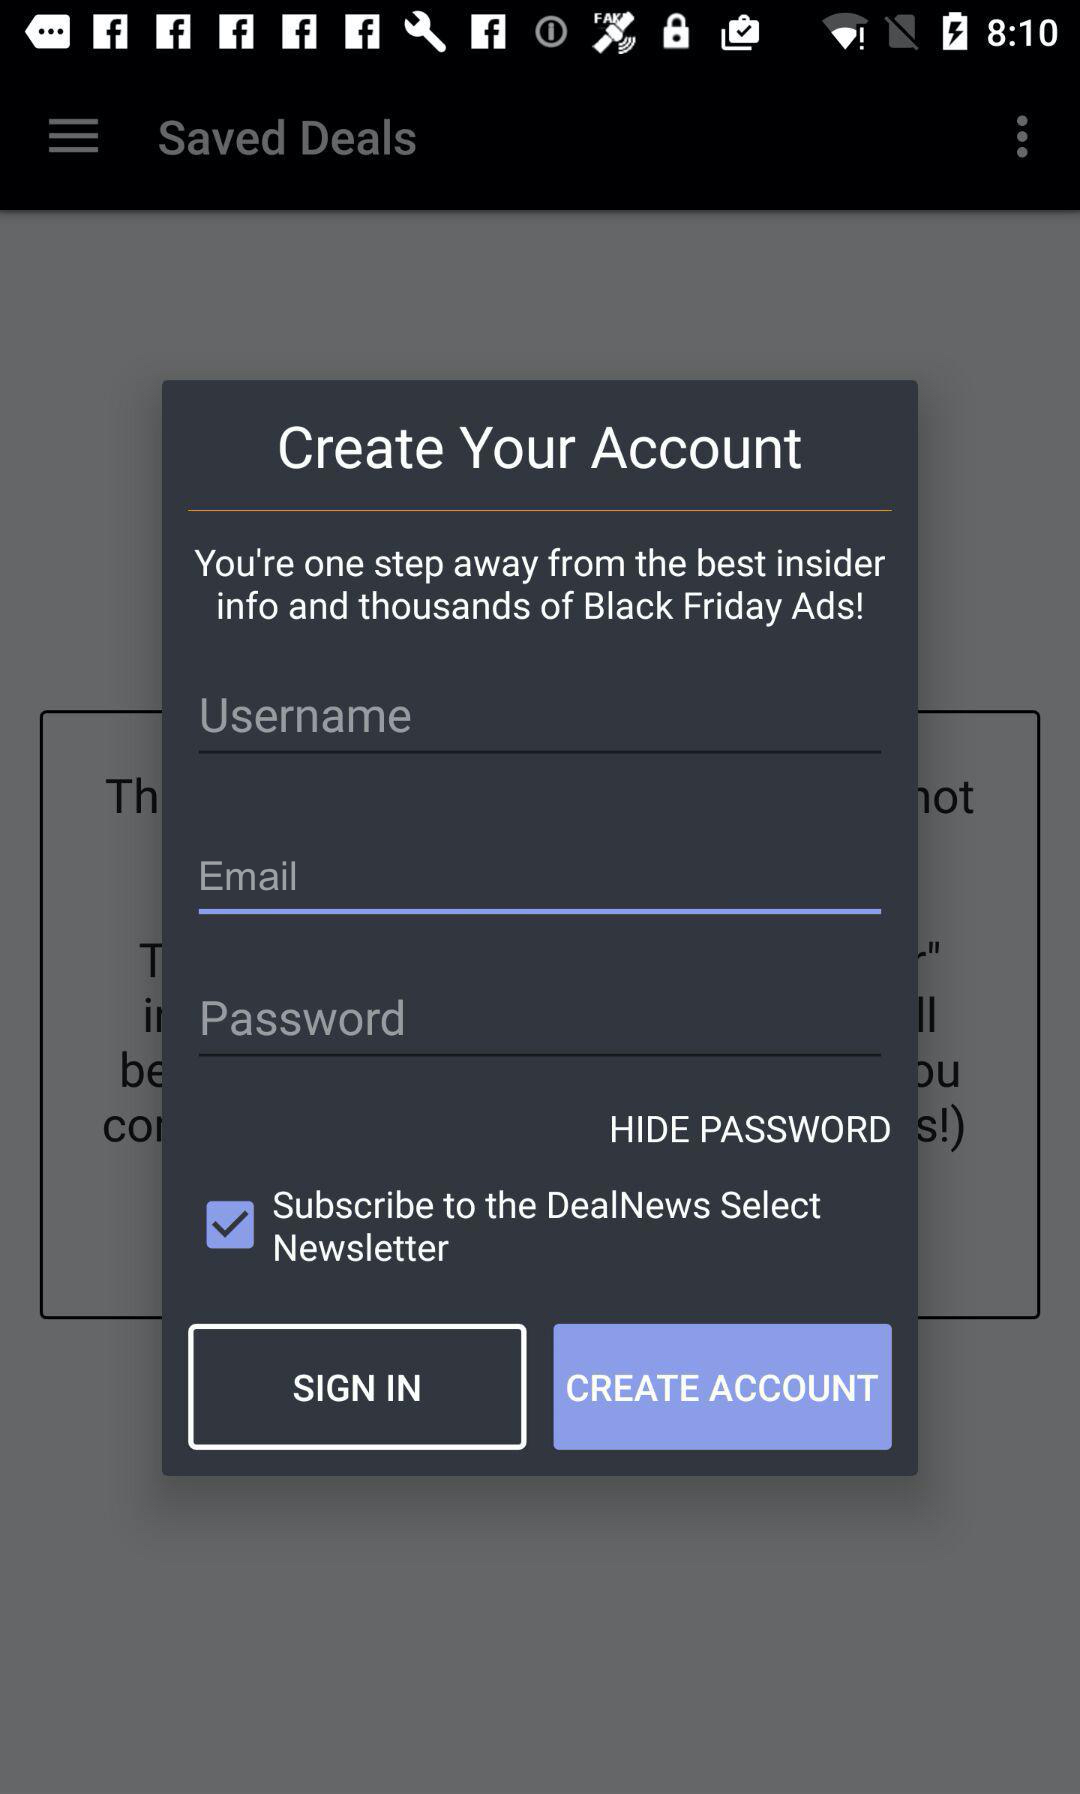CheckedTextView: (205, 1188, 822, 1263)
EditText: (199, 998, 881, 1058), (199, 859, 881, 918), (199, 697, 883, 755)
Icon: (49, 119, 100, 155), (1015, 117, 1029, 160)
Modal: (161, 381, 919, 1477)
Text: (193, 547, 887, 629), (273, 1189, 822, 1263), (279, 425, 802, 472), (159, 119, 416, 158), (611, 1114, 890, 1146), (202, 697, 413, 736), (202, 1000, 405, 1038), (201, 860, 297, 891)
TextButton: (188, 1322, 528, 1451), (553, 1322, 893, 1451)
UpperTaskBar: (1, 1, 1080, 64)
